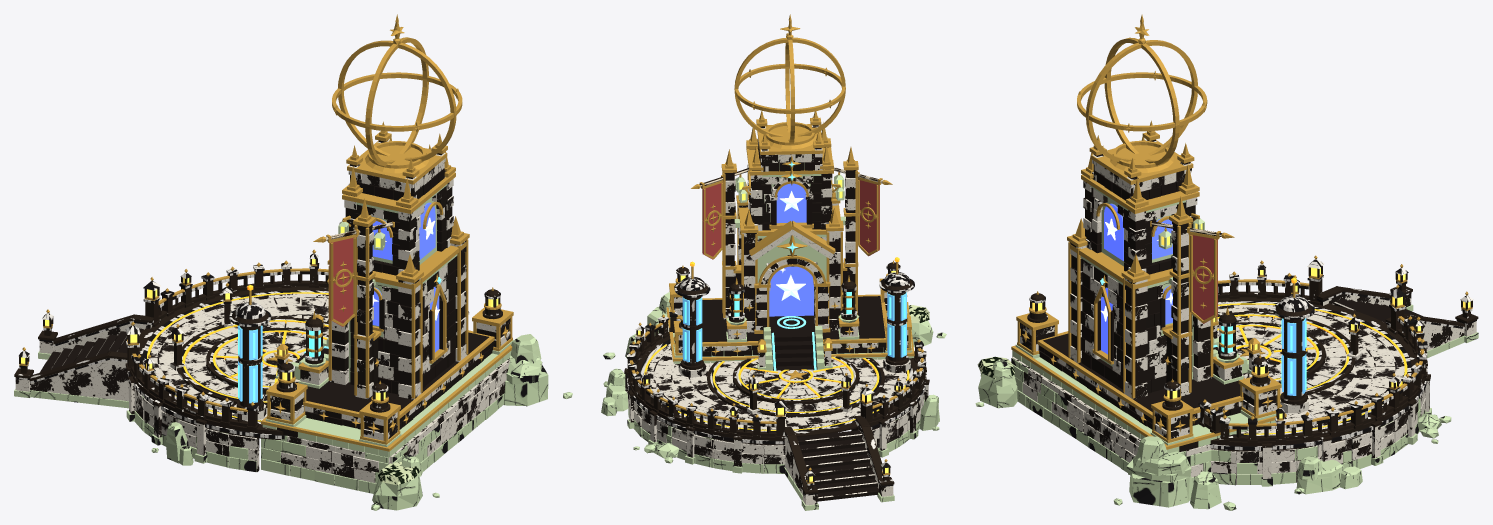
The model's file is ILHA2_06_SUMMON_94f9d4.fbx.
3 views of the same model, side by side, from view 1: azimuth 30°, elevation 25°; view 2: azimuth 150°, elevation 25°; view 3: azimuth 270°, elevation 25° (orthographic). The views are drawn at different scales.
Visible parts, largest first — view 1: DB_Sum_Tower_Gold__Metal_Gold, DB_Sum_Tower_Stone__Stone_DB_Block, DB_Sum_Tower_Stone__Stone_Paving_DB, DB_Sum_Platform__Stone_DB_Block_B, DB_Sum_Dressing__Plaster_DB_White, DB_Sum_Platform__Cliff_Rock_DB, DB_Sum_Platform__Plaster_DB_White, DB_Sum_Tower_Stone__Cliff_Rock_DB_Dark, DB_Sum_Platform__Stone_Paving_DB, DB_Sum_Platform__Stone_DB_Block, DB_Sum_Dressing__Roof_DB_Blue, DB_Sum_Platform__Cliff_Rock_DB_B (+13 smaller); view 2: DB_Sum_Tower_Gold__Metal_Gold, DB_Sum_Tower_Stone__Stone_DB_Block, DB_Sum_Platform__Stone_Paving_DB, DB_Sum_Tower_Stone__Stone_Paving_DB, DB_Sum_Dressing__Plaster_DB_White, DB_Sum_Platform__Plaster_DB_White, DB_Sum_Platform__Stone_DB_Block_B, DB_Sum_Tower_Stone__Cliff_Rock_DB_Dark, DB_Sum_Dressing__Roof_DB_Blue, DB_Sum_Platform__Stone_Paving_DB_B, DB_Sum_Tower_Glow__Crystal_SumPortal_Glow, DB_Sum_Platform__Cliff_Rock_DB (+16 smaller); view 3: DB_Sum_Tower_Gold__Metal_Gold, DB_Sum_Tower_Stone__Stone_DB_Block, DB_Sum_Tower_Stone__Stone_Paving_DB, DB_Sum_Dressing__Plaster_DB_White, DB_Sum_Platform__Stone_DB_Block_B, DB_Sum_Platform__Cliff_Rock_DB, DB_Sum_Platform__Stone_Paving_DB, DB_Sum_Platform__Plaster_DB_White, DB_Sum_Platform__Stone_DB_Block, DB_Sum_Platform__Cliff_Rock_DB_B, DB_Sum_Tower_Stone__Cliff_Rock_DB_Dark, DB_Sum_Dressing__Roof_DB_Blue (+13 smaller).
Part boxes in pixels (x1=…): DB_Sum_Tower_Gold__Metal_Gold: x1=261, y1=14, x2=513, y2=451; DB_Sum_Tower_Stone__Stone_DB_Block: x1=271, y1=140, x2=509, y2=437; DB_Sum_Tower_Stone__Stone_Paving_DB: x1=270, y1=140, x2=510, y2=440; DB_Sum_Platform__Stone_DB_Block_B: x1=15, y1=293, x2=506, y2=473; DB_Sum_Dressing__Plaster_DB_White: x1=127, y1=269, x2=500, y2=426; DB_Sum_Platform__Cliff_Rock_DB: x1=134, y1=348, x2=572, y2=510; DB_Sum_Platform__Plaster_DB_White: x1=14, y1=286, x2=328, y2=439; DB_Sum_Tower_Stone__Cliff_Rock_DB_Dark: x1=262, y1=184, x2=513, y2=457; DB_Sum_Platform__Stone_Paving_DB: x1=39, y1=294, x2=328, y2=417; DB_Sum_Platform__Stone_DB_Block: x1=128, y1=333, x2=509, y2=490; DB_Sum_Dressing__Roof_DB_Blue: x1=126, y1=220, x2=500, y2=415; DB_Sum_Platform__Cliff_Rock_DB_B: x1=144, y1=365, x2=548, y2=483; DB_Sum_Tower_Gold__Metal_Gold: x1=666, y1=14, x2=914, y2=361; DB_Sum_Tower_Stone__Stone_DB_Block: x1=668, y1=125, x2=908, y2=370; DB_Sum_Platform__Stone_Paving_DB: x1=648, y1=349, x2=905, y2=501; DB_Sum_Tower_Stone__Stone_Paving_DB: x1=670, y1=125, x2=908, y2=367; DB_Sum_Dressing__Plaster_DB_White: x1=627, y1=262, x2=925, y2=436; DB_Sum_Platform__Plaster_DB_White: x1=624, y1=331, x2=929, y2=494; DB_Sum_Platform__Stone_DB_Block_B: x1=625, y1=343, x2=928, y2=505; DB_Sum_Tower_Stone__Cliff_Rock_DB_Dark: x1=668, y1=154, x2=913, y2=370; DB_Sum_Dressing__Roof_DB_Blue: x1=627, y1=264, x2=926, y2=426; DB_Sum_Platform__Stone_Paving_DB_B: x1=647, y1=344, x2=906, y2=461; DB_Sum_Tower_Glow__Crystal_SumPortal_Glow: x1=769, y1=183, x2=813, y2=316; DB_Sum_Platform__Cliff_Rock_DB: x1=603, y1=304, x2=938, y2=473; DB_Sum_Tower_Gold__Metal_Gold: x1=1011, y1=14, x2=1286, y2=449; DB_Sum_Tower_Stone__Stone_DB_Block: x1=1021, y1=139, x2=1276, y2=451; DB_Sum_Tower_Stone__Stone_Paving_DB: x1=1020, y1=140, x2=1277, y2=438; DB_Sum_Dressing__Plaster_DB_White: x1=1029, y1=279, x2=1426, y2=441; DB_Sum_Platform__Stone_DB_Block_B: x1=1051, y1=291, x2=1476, y2=484; DB_Sum_Platform__Cliff_Rock_DB: x1=975, y1=356, x2=1451, y2=505; DB_Sum_Platform__Stone_Paving_DB: x1=1217, y1=298, x2=1422, y2=432; DB_Sum_Platform__Plaster_DB_White: x1=1210, y1=284, x2=1478, y2=451; DB_Sum_Platform__Stone_DB_Block: x1=1012, y1=328, x2=1425, y2=484; DB_Sum_Platform__Cliff_Rock_DB_B: x1=1011, y1=364, x2=1438, y2=507; DB_Sum_Tower_Stone__Cliff_Rock_DB_Dark: x1=1012, y1=185, x2=1276, y2=453; DB_Sum_Dressing__Roof_DB_Blue: x1=1029, y1=273, x2=1427, y2=429.
Size of the model in its own units: 71.62 by 66.9 by 73.16.
15 materials, 6 textured.
